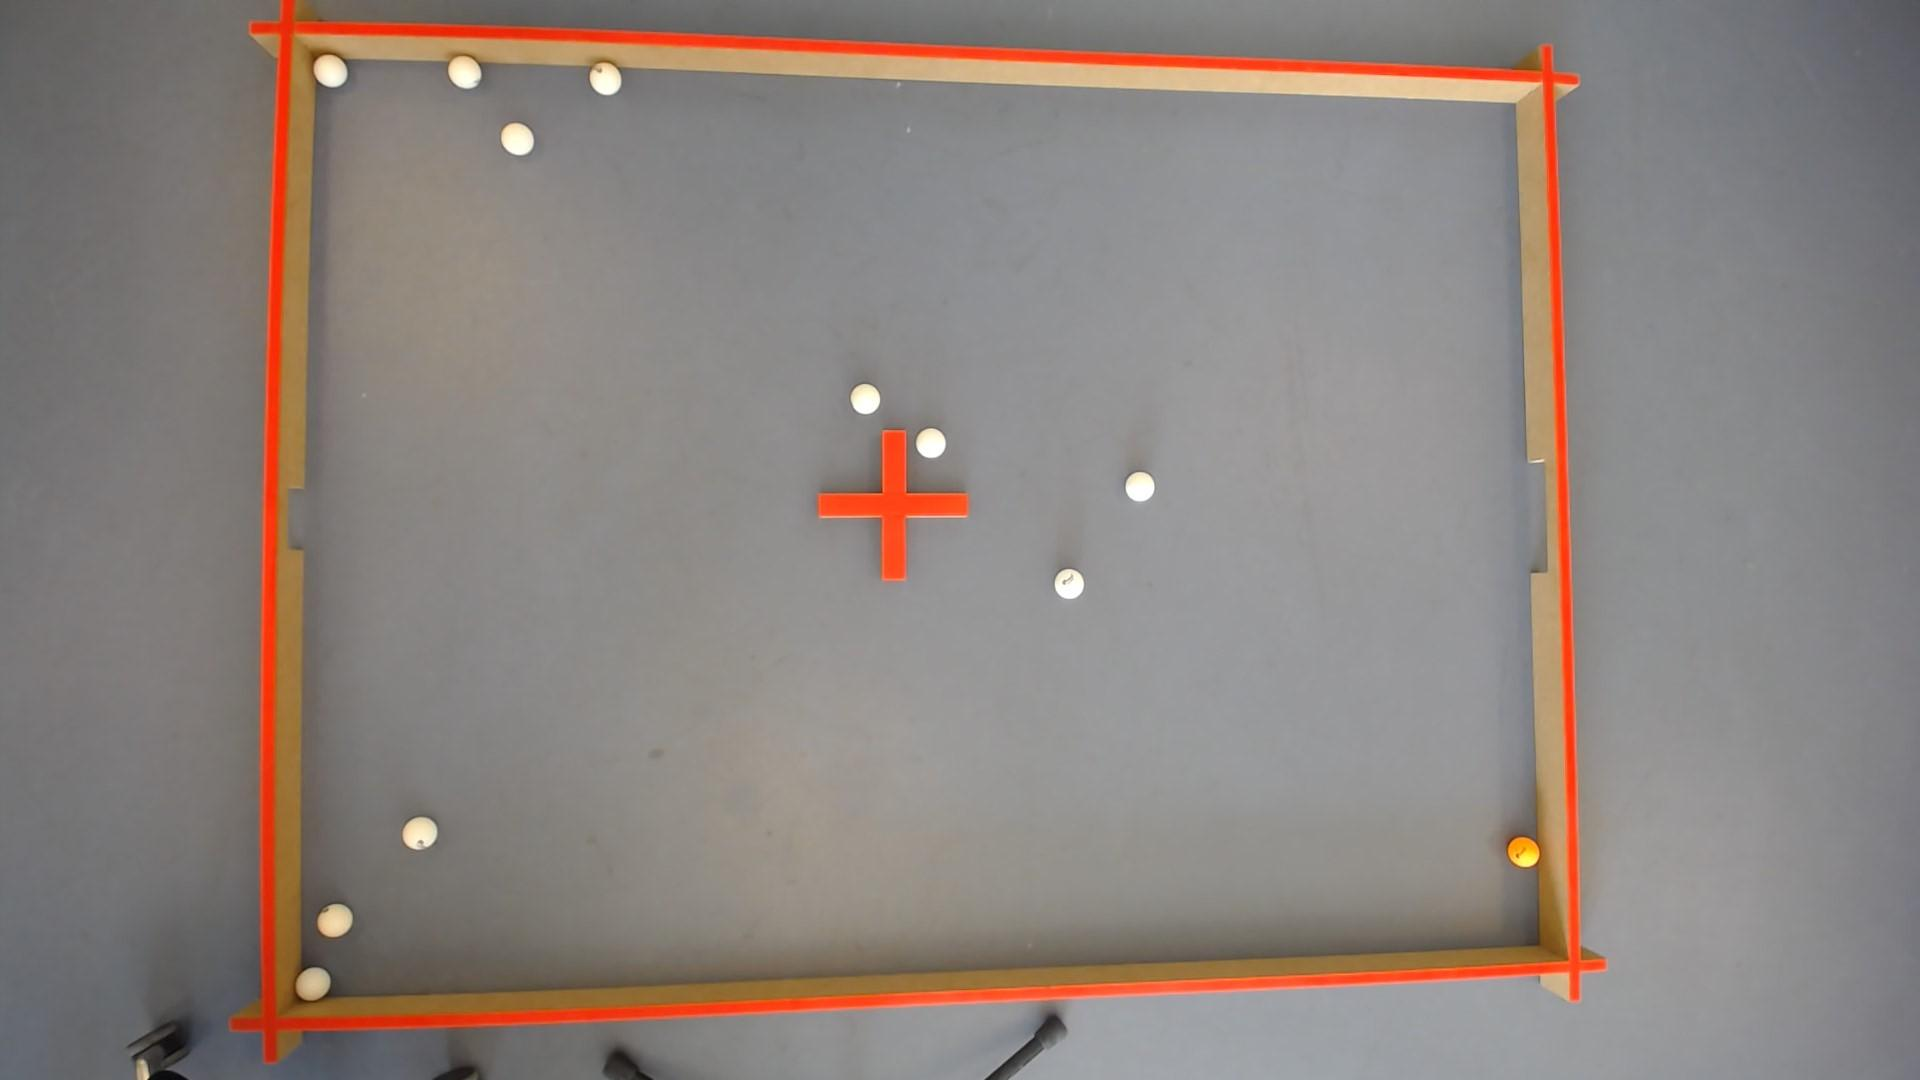orange: (1509, 836, 1543, 869)
white: (314, 903, 352, 939), (293, 967, 328, 1002), (401, 818, 436, 851), (311, 51, 345, 84), (447, 51, 480, 86), (498, 120, 533, 153), (588, 59, 621, 92), (1055, 566, 1085, 599), (1126, 471, 1156, 501), (916, 426, 945, 456), (851, 382, 880, 413)
